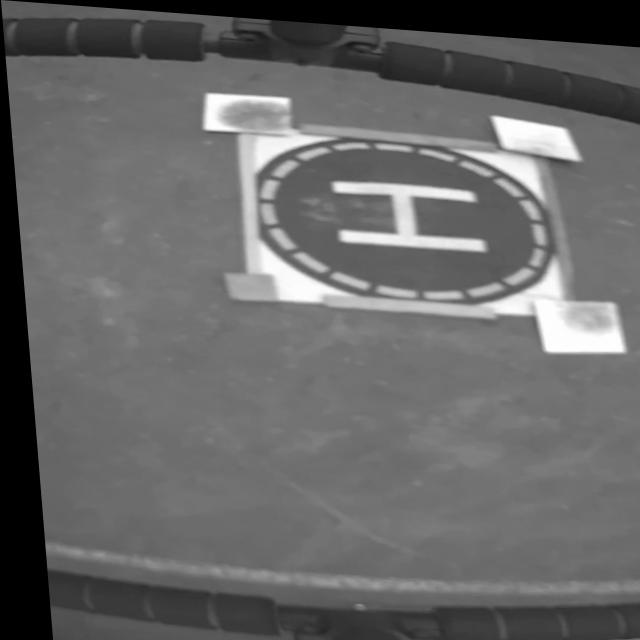Helipad: (330, 174, 482, 245)
